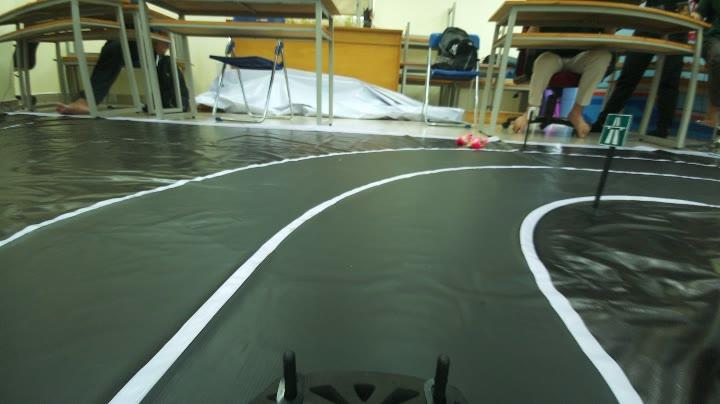highway_entry: (598, 110, 632, 152)
